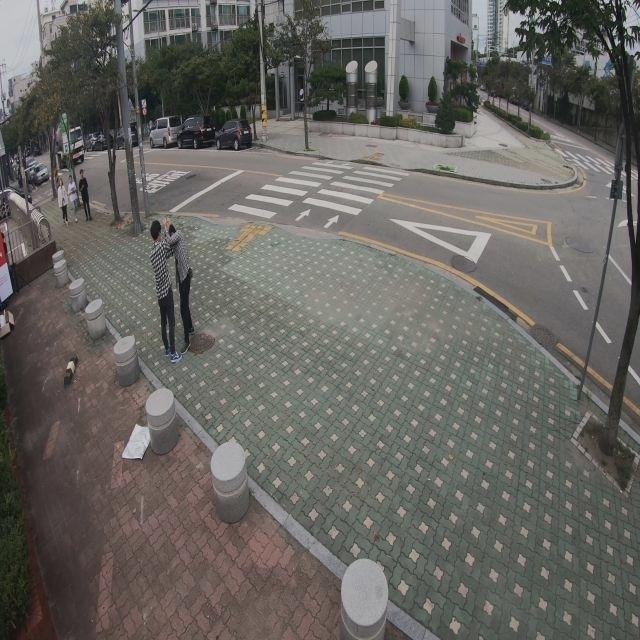fight: (147, 220, 196, 361)
